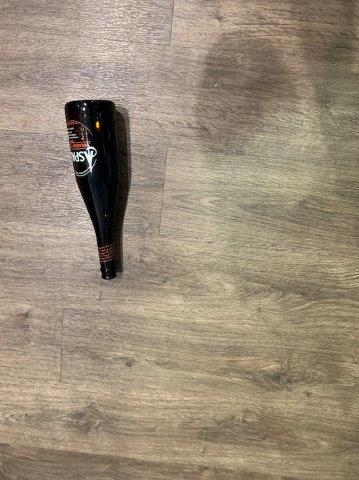botolkaca: (65, 100, 120, 280)
